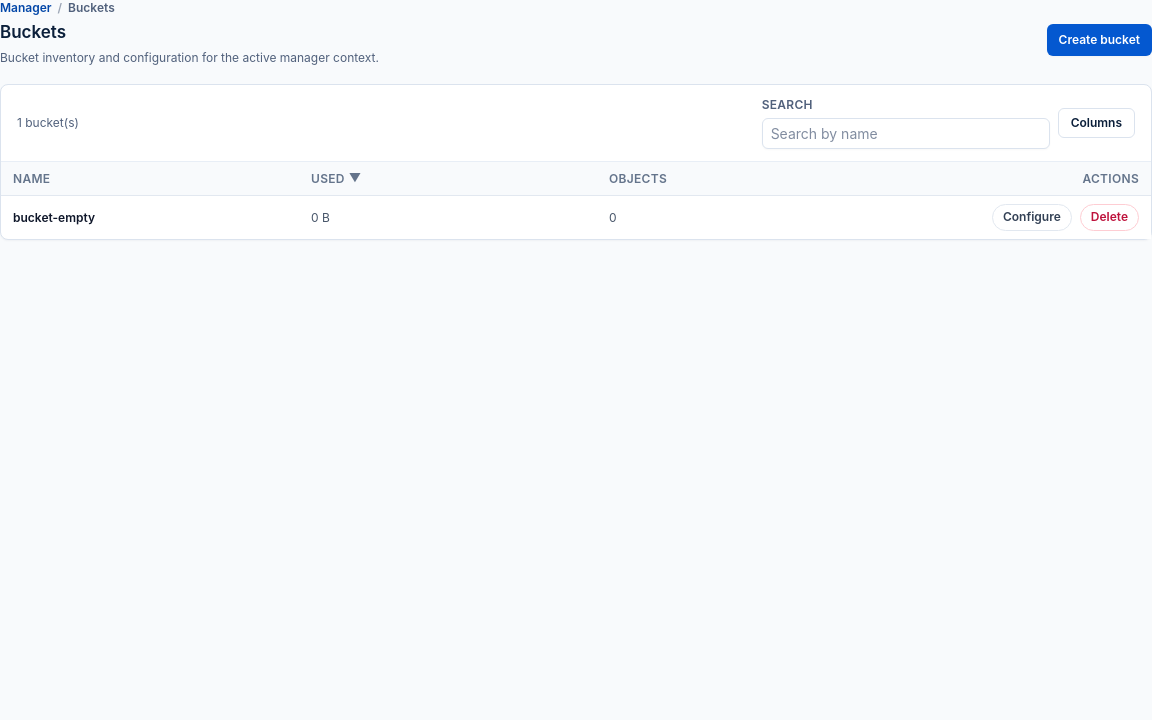
Test case: manager shell pages › opens the normal delete confirmation for an empty bucket without purge access
The width and height of the screenshot is (1152, 720).
Check: the text "bucket-empty" is shown, box [13,210,95,224]
Click the button "Delete": x=1109, y=217 [1080,204,1139,231]
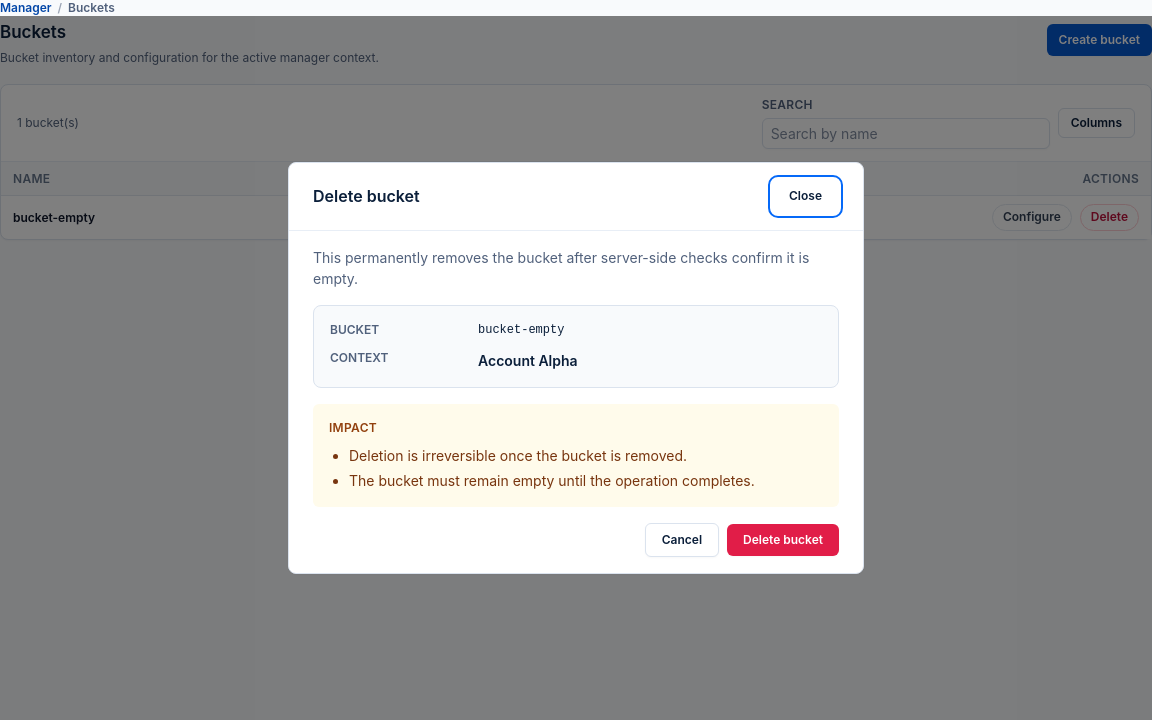
Check: the dialog "Delete bucket" is shown, box [288,162,864,574]
Check: the text "This permanently removes the bucket after server-side checks confirm it is empty." is shown, box [313,248,809,286]
